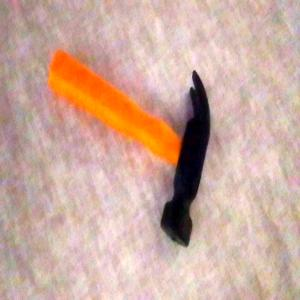martelo: (48, 48, 212, 248)
